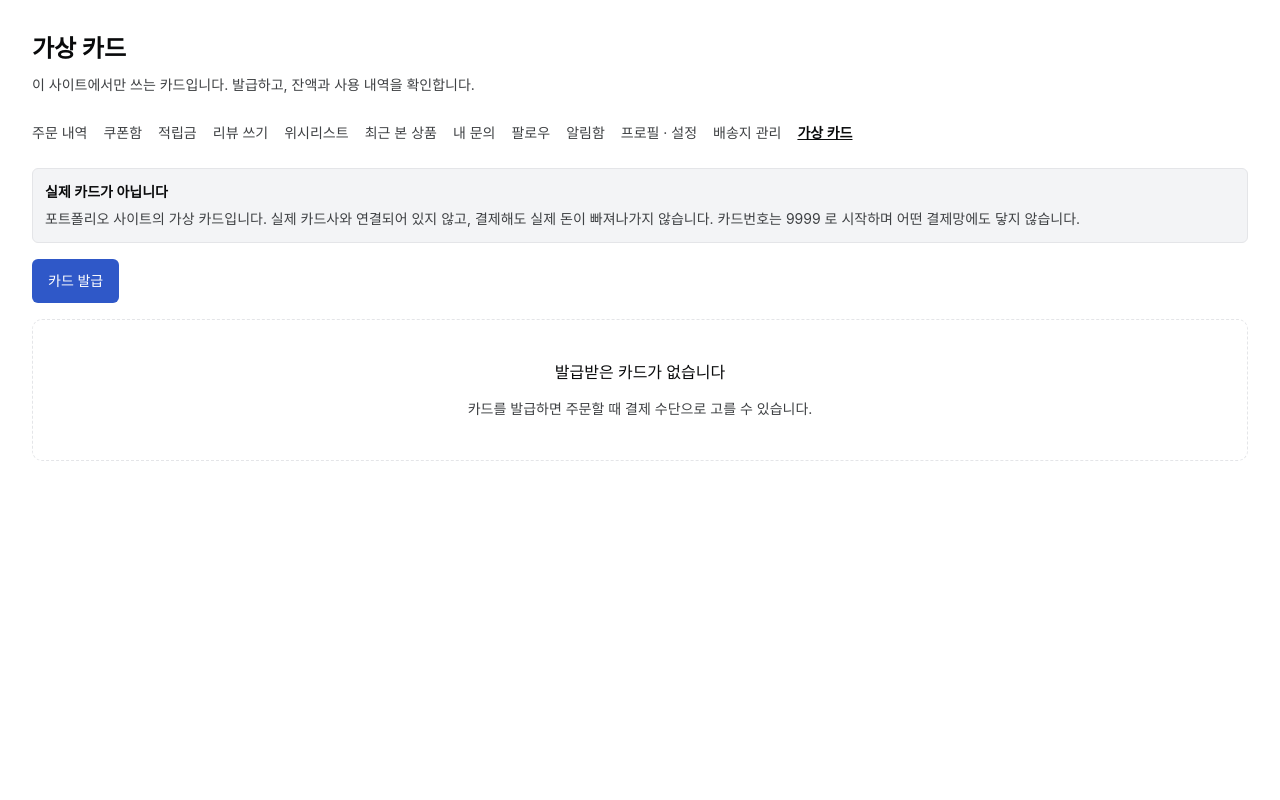
발급 › starts from the limit the demo account already has
This screenshot has width=1280, height=800.
Check: the heading "가상 카드" is shown, box [32,34,126,63]
Check: the text "발급받은 카드가 없습니다" is shown, box [555,360,725,386]
Click the button "카드 발급" at [76, 281], box [32,259,119,303]
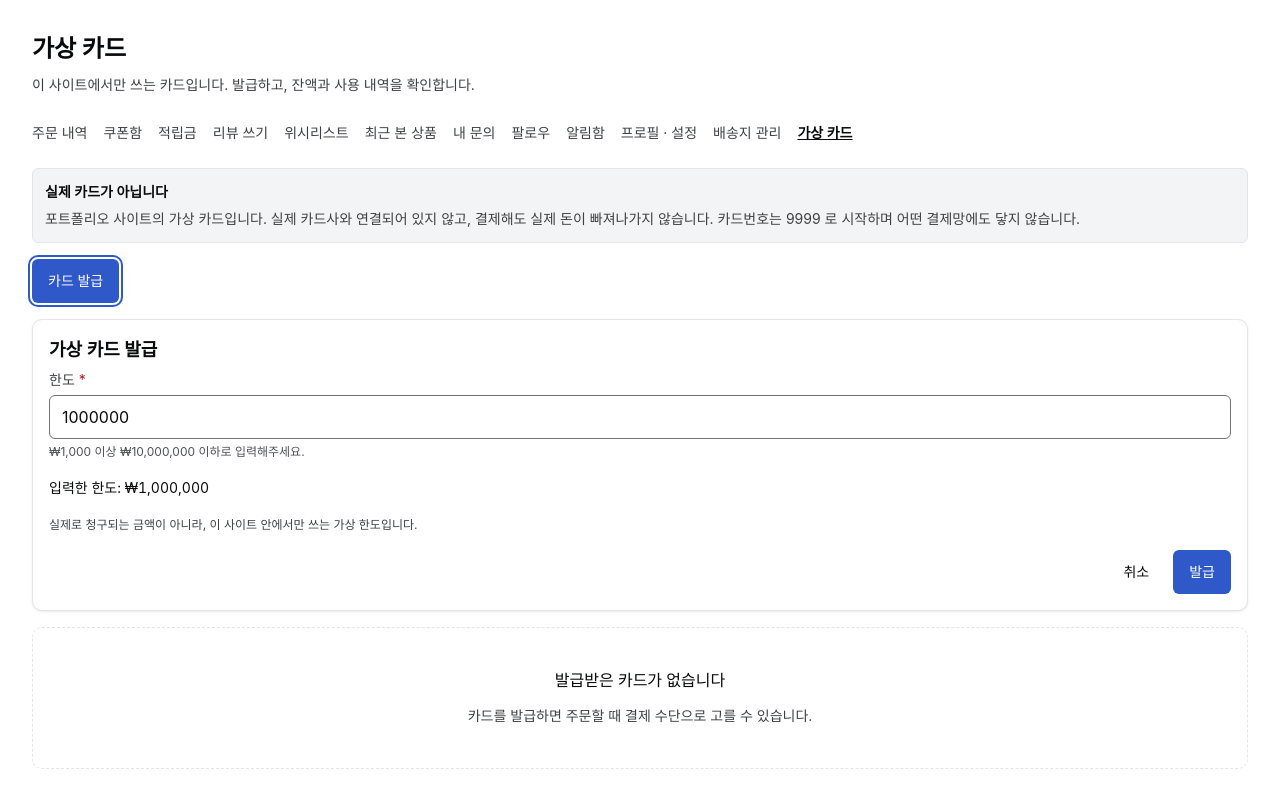
Check: the field labelled "한도 *" holds "1000000", box [49,395,1231,439]
